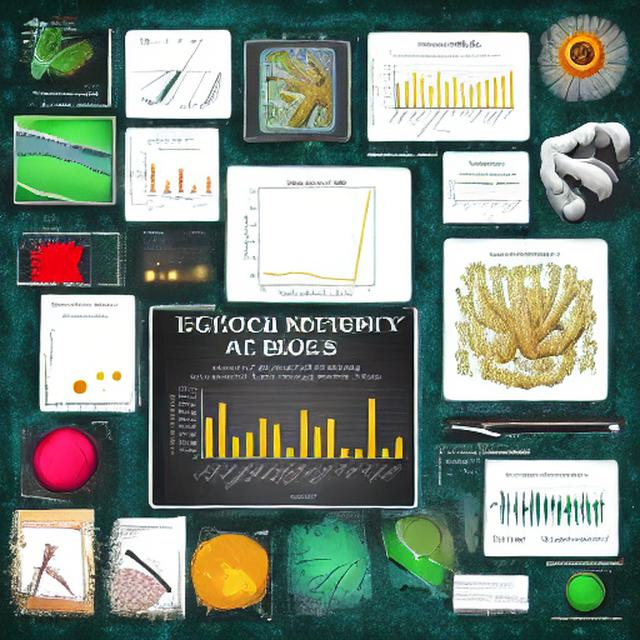Graph: (163, 359, 413, 506), (230, 172, 399, 299), (369, 50, 518, 139), (132, 146, 218, 202), (444, 171, 526, 220)
